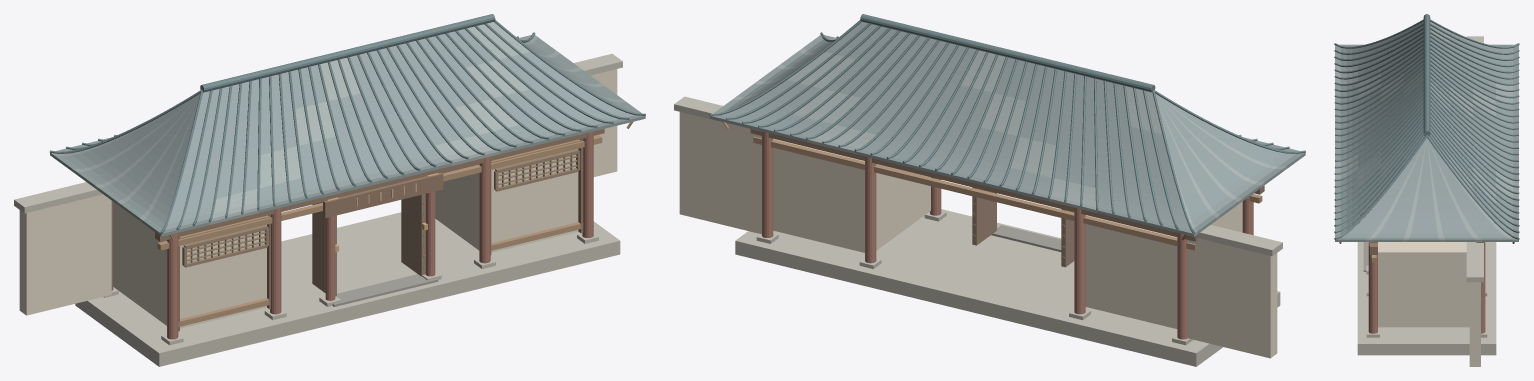
The model's file is courtyard-gate.glb.
3 renders of one model, left to right at view 1: azimuth 30°, elevation 25°; view 2: azimuth 150°, elevation 25°; view 3: azimuth 270°, elevation 25°, orthographic. The views are drawn at different scales.
Visible parts, largest first — view 1: roof, plaster, stone, tile_joint, roof_alt, post, timber, timber_lit, screens, shutter, stone_dark; view 2: roof, plaster, stone, tile_joint, roof_alt, post, timber_lit, timber, shutter, stone_dark; view 3: roof, tile_joint, plaster, stone, roof_alt, post, stone_dark.
Boxes of the visible parts, left/top/right/bottom form: roof: left=53, top=29, right=645, bottom=236; plaster: left=19, top=69, right=617, bottom=328; stone: left=14, top=53, right=622, bottom=366; tile_joint: left=49, top=14, right=645, bottom=234; roof_alt: left=50, top=22, right=626, bottom=224; post: left=111, top=131, right=593, bottom=339; timber: left=155, top=129, right=604, bottom=331; timber_lit: left=157, top=121, right=633, bottom=326; screens: left=182, top=149, right=580, bottom=289; shutter: left=312, top=194, right=425, bottom=296; stone_dark: left=332, top=274, right=438, bottom=306; roof: left=710, top=22, right=1305, bottom=236; plaster: left=679, top=112, right=1277, bottom=358; stone: left=674, top=96, right=1282, bottom=366; tile_joint: left=709, top=14, right=1305, bottom=233; roof_alt: left=713, top=48, right=1286, bottom=236; post: left=762, top=131, right=1253, bottom=339; timber_lit: left=722, top=121, right=1262, bottom=250; timber: left=750, top=129, right=1264, bottom=241; shutter: left=972, top=187, right=1074, bottom=267; stone_dark: left=991, top=224, right=1061, bottom=251; roof: left=1335, top=21, right=1518, bottom=241; tile_joint: left=1334, top=14, right=1519, bottom=239; plaster: left=1378, top=242, right=1480, bottom=366; stone: left=1357, top=36, right=1496, bottom=355; roof_alt: left=1335, top=21, right=1518, bottom=241; post: left=1368, top=246, right=1485, bottom=333; stone_dark: left=1363, top=242, right=1368, bottom=271.
Size of the model in its own units: 18.29 by 6.72 by 5.94.
